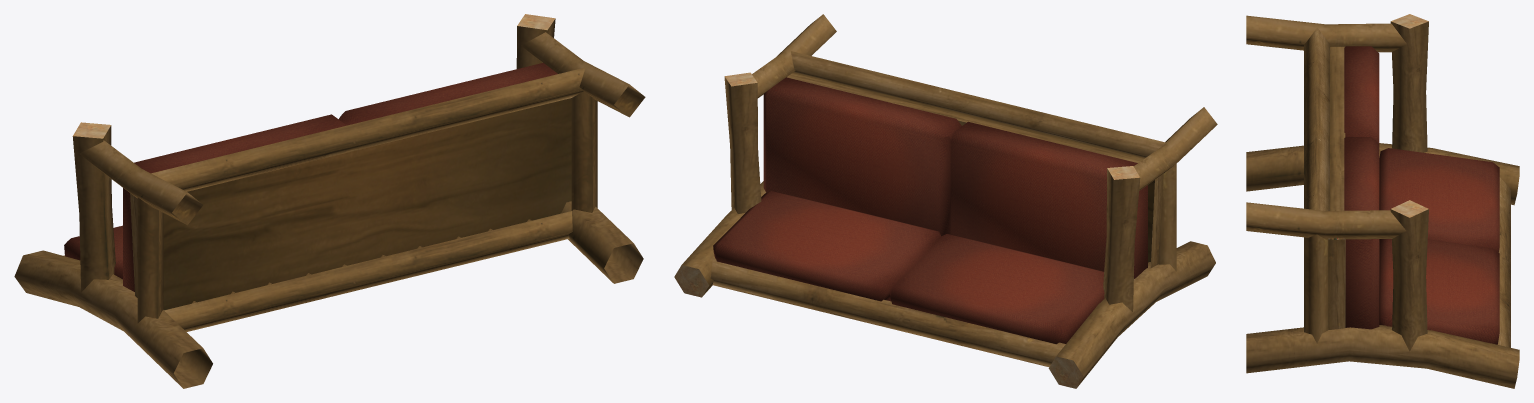
File: Log_Sofa_D.fbx
3 renders of one model, left to right at view 1: azimuth 30°, elevation 25°; view 2: azimuth 150°, elevation 25°; view 3: azimuth 270°, elevation 25°, orthographic. The views are drawn at different scales.
Parts seen in each view (by area): view 1: Log_Sofa_D; view 2: Log_Sofa_D; view 3: Log_Sofa_D.
Boxes of the visible parts, x1,y1,x2,y2 form: Log_Sofa_D: (14,14,645,388); Log_Sofa_D: (674,14,1217,388); Log_Sofa_D: (1246,14,1519,388).
Bounding box in the file's own units: 18.26 × 7.68 × 10.35.
